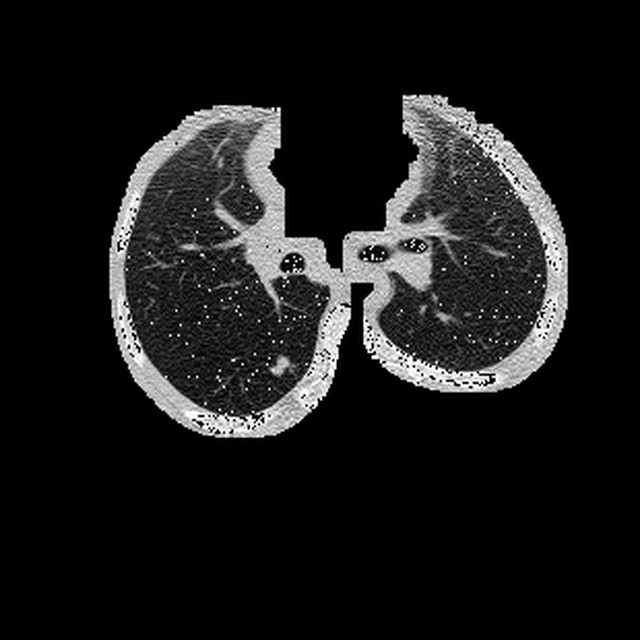PN: (273, 359, 289, 376)
